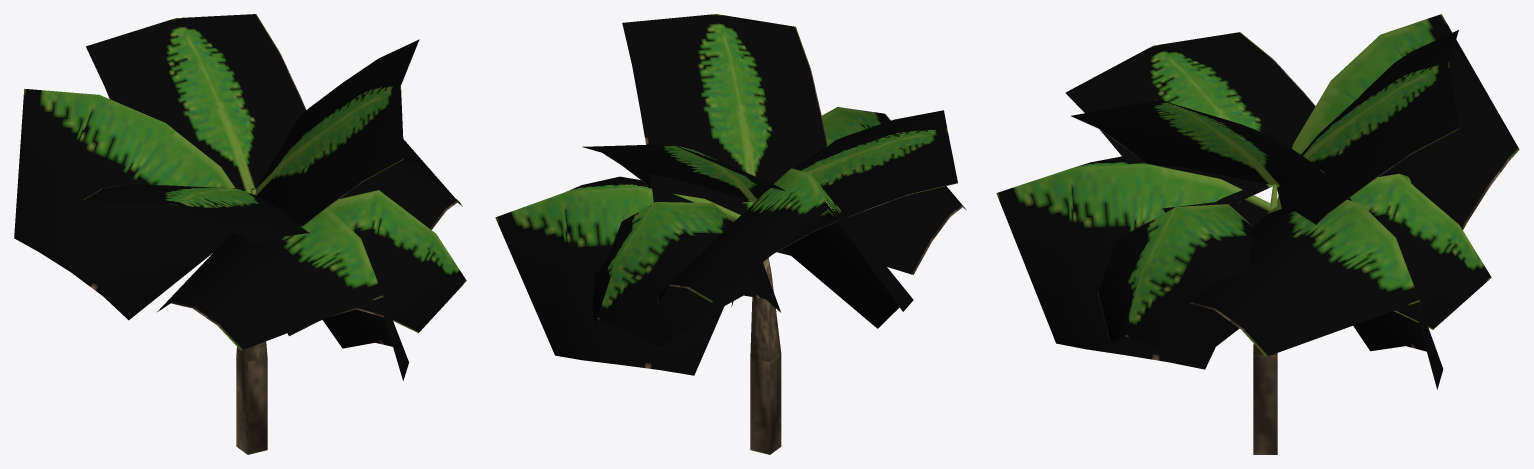
Rendered from palm_tree_2_4.dae.
3 renders of one model, left to right at view 1: azimuth 30°, elevation 25°; view 2: azimuth 150°, elevation 25°; view 3: azimuth 270°, elevation 25°, orthographic. The views are drawn at different scales.
Parts seen in each view (by area): view 1: Plane.001; view 2: Plane.001; view 3: Plane.001.
Part boxes in pixels (x1,y1,x2,y2): Plane.001: (14, 14, 466, 454); Plane.001: (495, 14, 966, 454); Plane.001: (996, 14, 1519, 454).
Size of the model in its own units: 0.6119 by 0.648 by 0.5566.
1 material, 1 textured.
